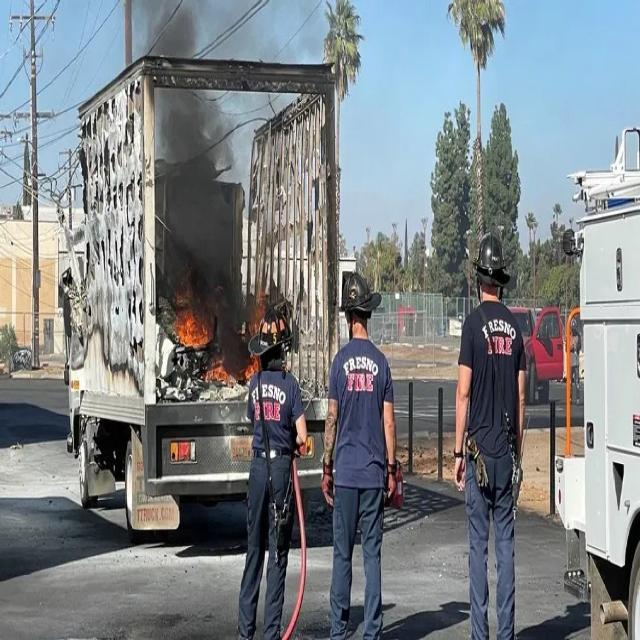Fire: (176, 293, 266, 381)
Smoke: (141, 0, 247, 355)
